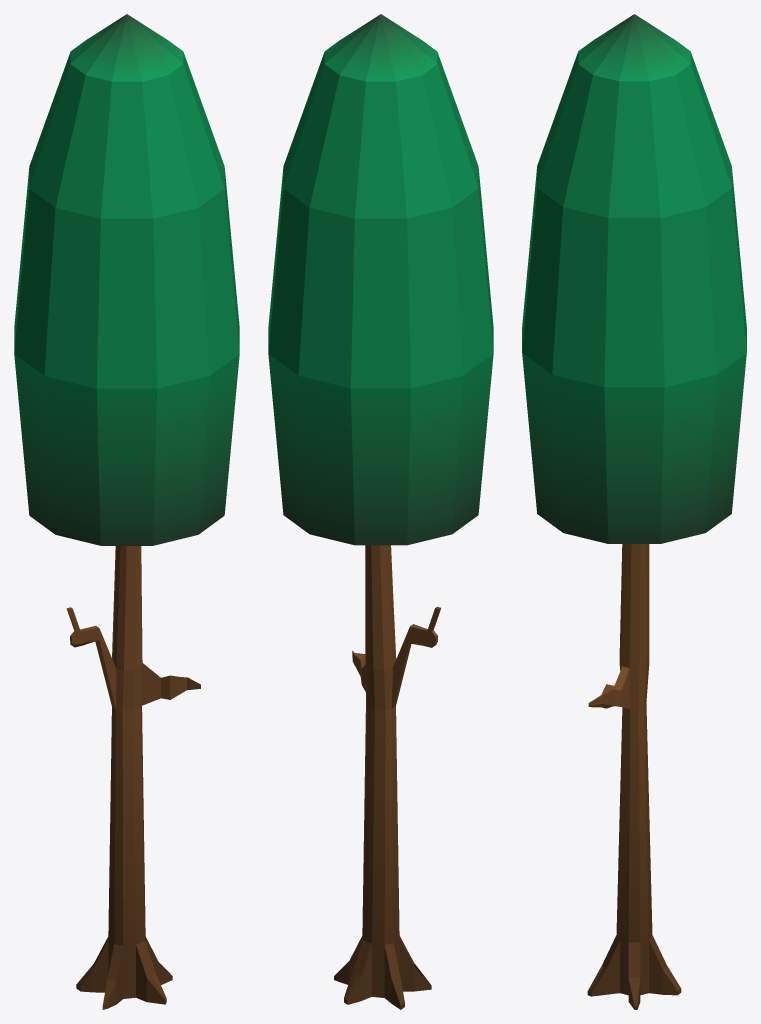
Rendered from Tree.glb.
The picture shows the model from 3 angles, left to right: view 1: azimuth 30°, elevation 25°; view 2: azimuth 150°, elevation 25°; view 3: azimuth 270°, elevation 25°; orthographic projection.
Visible parts, largest first — view 1: sphere, mesh; view 2: sphere, mesh; view 3: sphere, mesh.
Part boxes in pixels (bbox=[...]): sphere: bbox=[14, 14, 239, 545]; mesh: bbox=[66, 546, 200, 1009]; sphere: bbox=[268, 14, 493, 545]; mesh: bbox=[334, 545, 440, 1009]; sphere: bbox=[522, 14, 746, 543]; mesh: bbox=[587, 544, 681, 1009].
Size of the model in its own units: 0.9375 by 4.48 by 0.9375.
